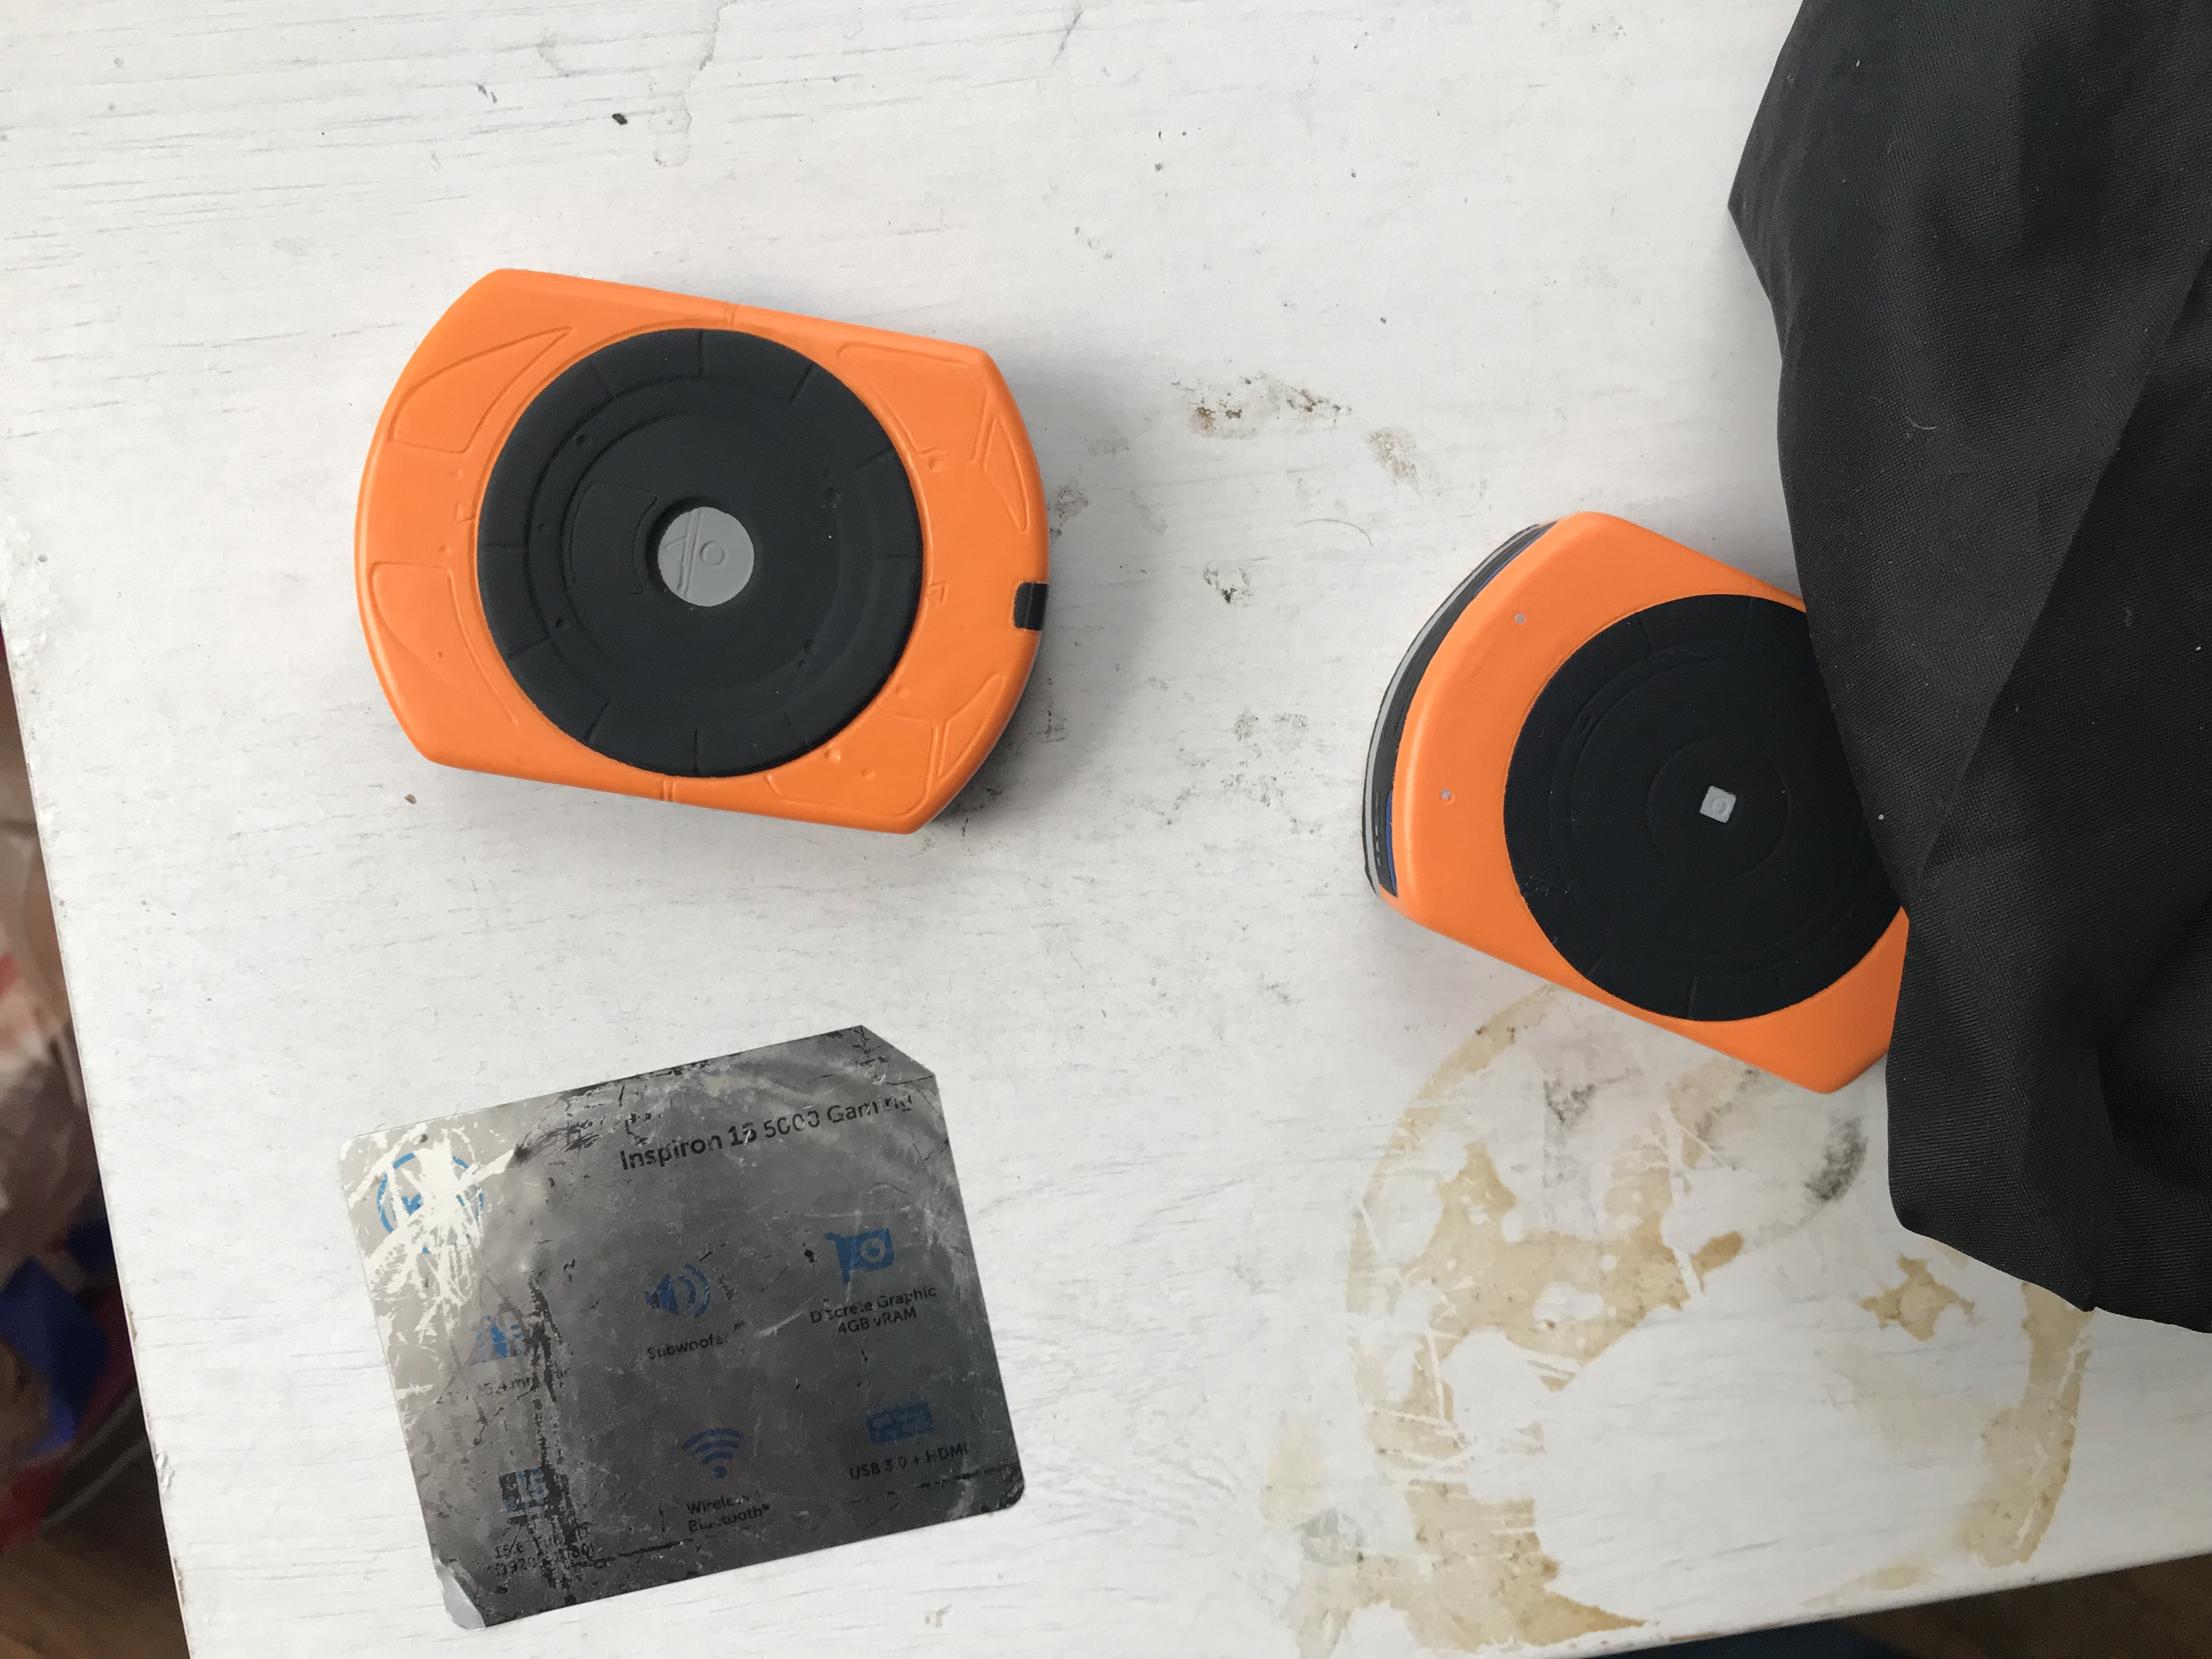amazon_bot: (343, 261, 1113, 894), (1348, 488, 1926, 1124)
